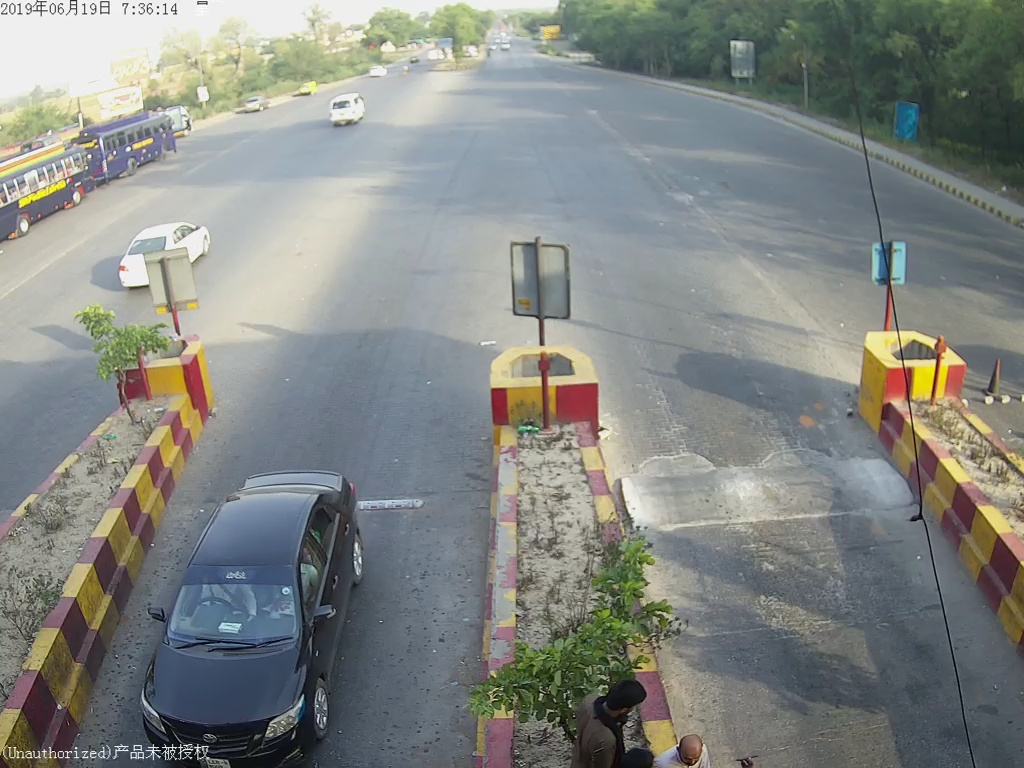Cat-1: (141, 449, 380, 747)
